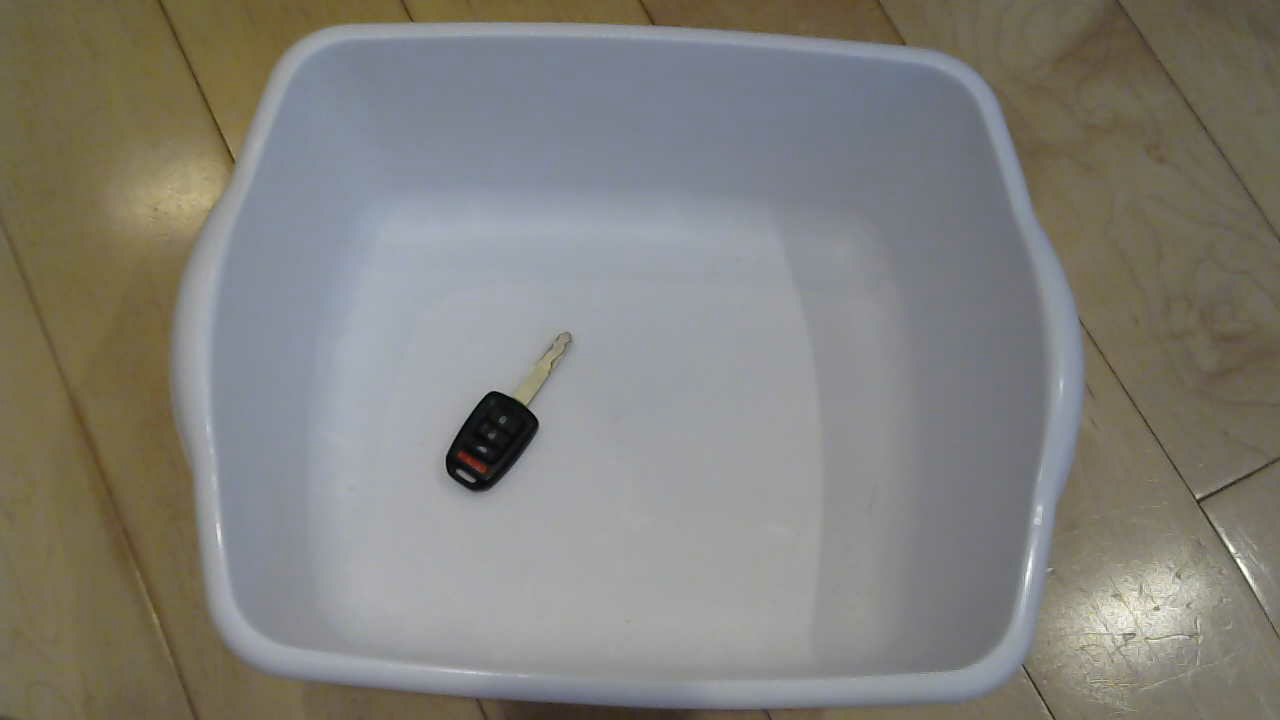key: (441, 330, 595, 504)
